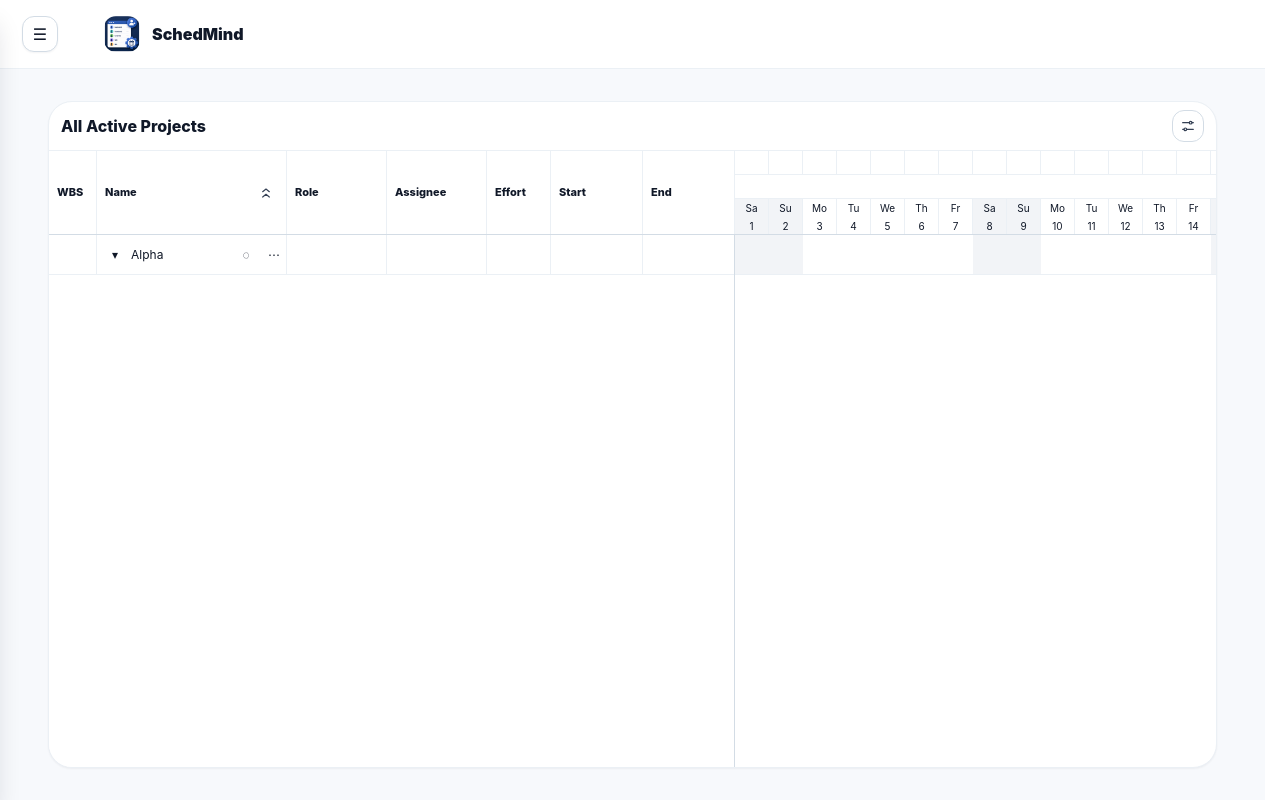
App Home row focus restoration › IFD-HOME-FOCUS-06 focuses the retained Project identity after its confirmed edit projection
This screenshot has width=1280, height=800.
Click the button "Alpha".
click(185, 255)  # box 131,247 -> 239,263
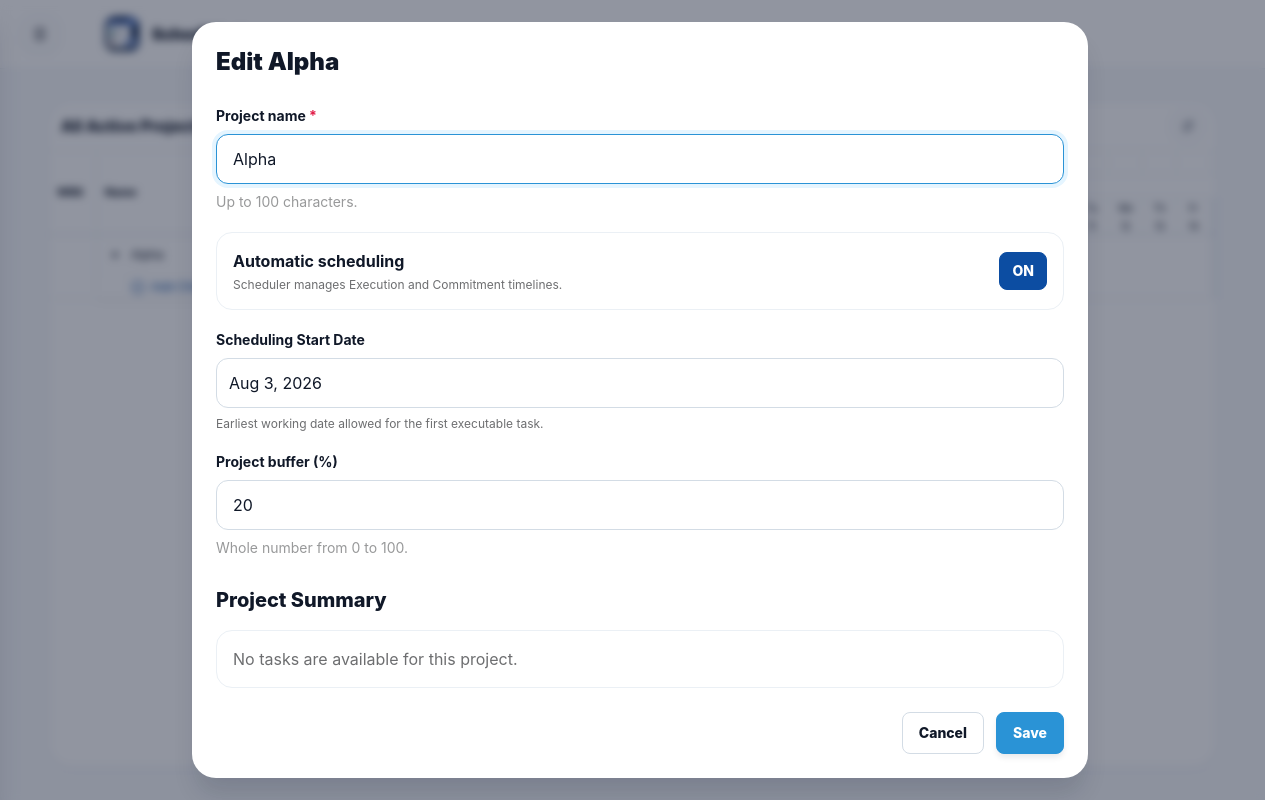
Replace the text in the field labelled "Project name" with "Renamed Alpha" at (640, 159), box 216,134 -> 1064,184
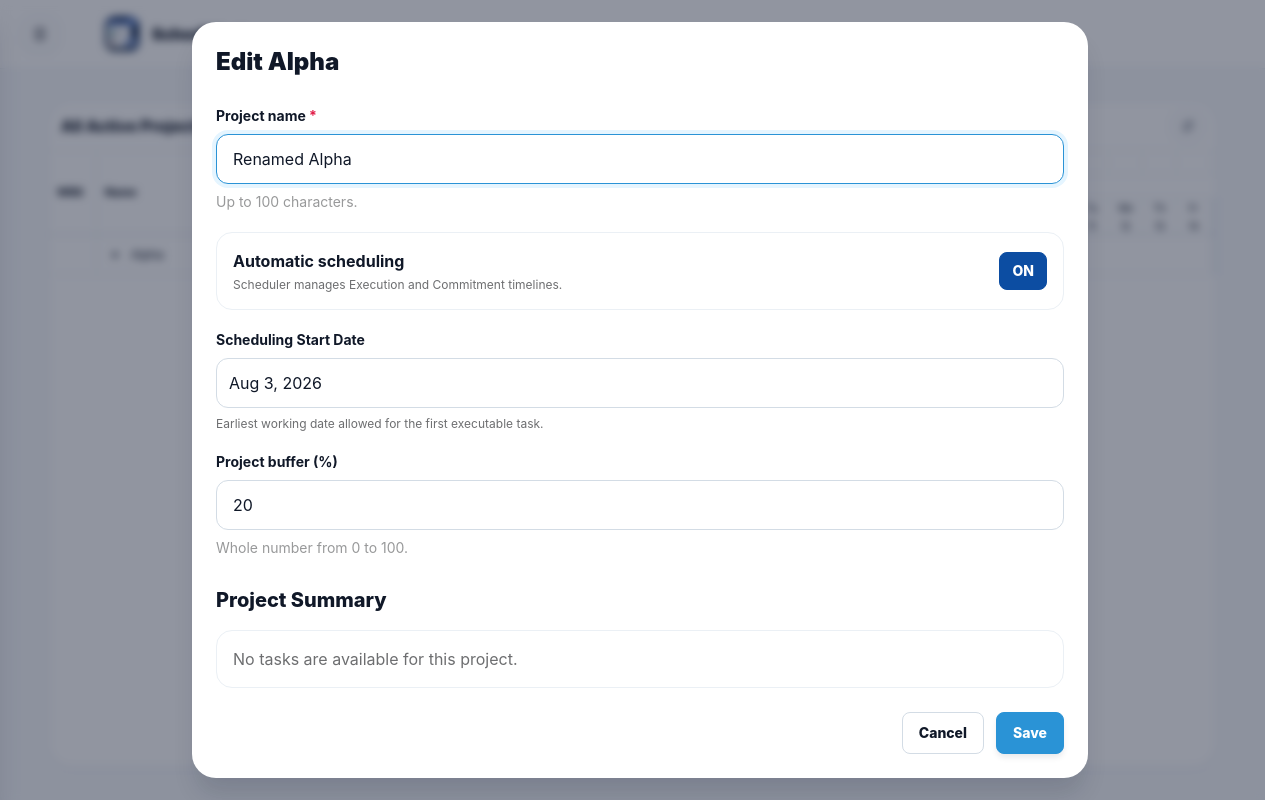
Click the button "Save".
click(1030, 733)  # box 996,712 -> 1064,754
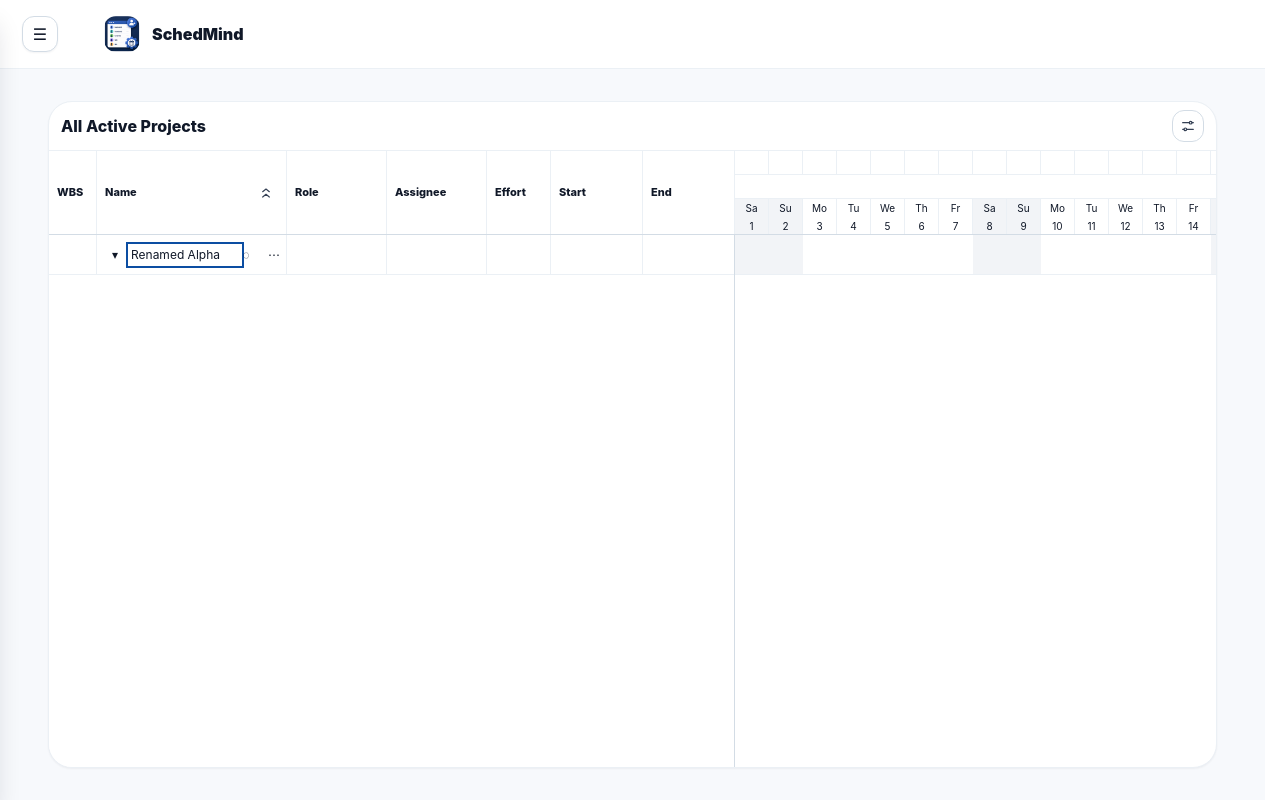
Expected: the heading "Edit Alpha" is gone
